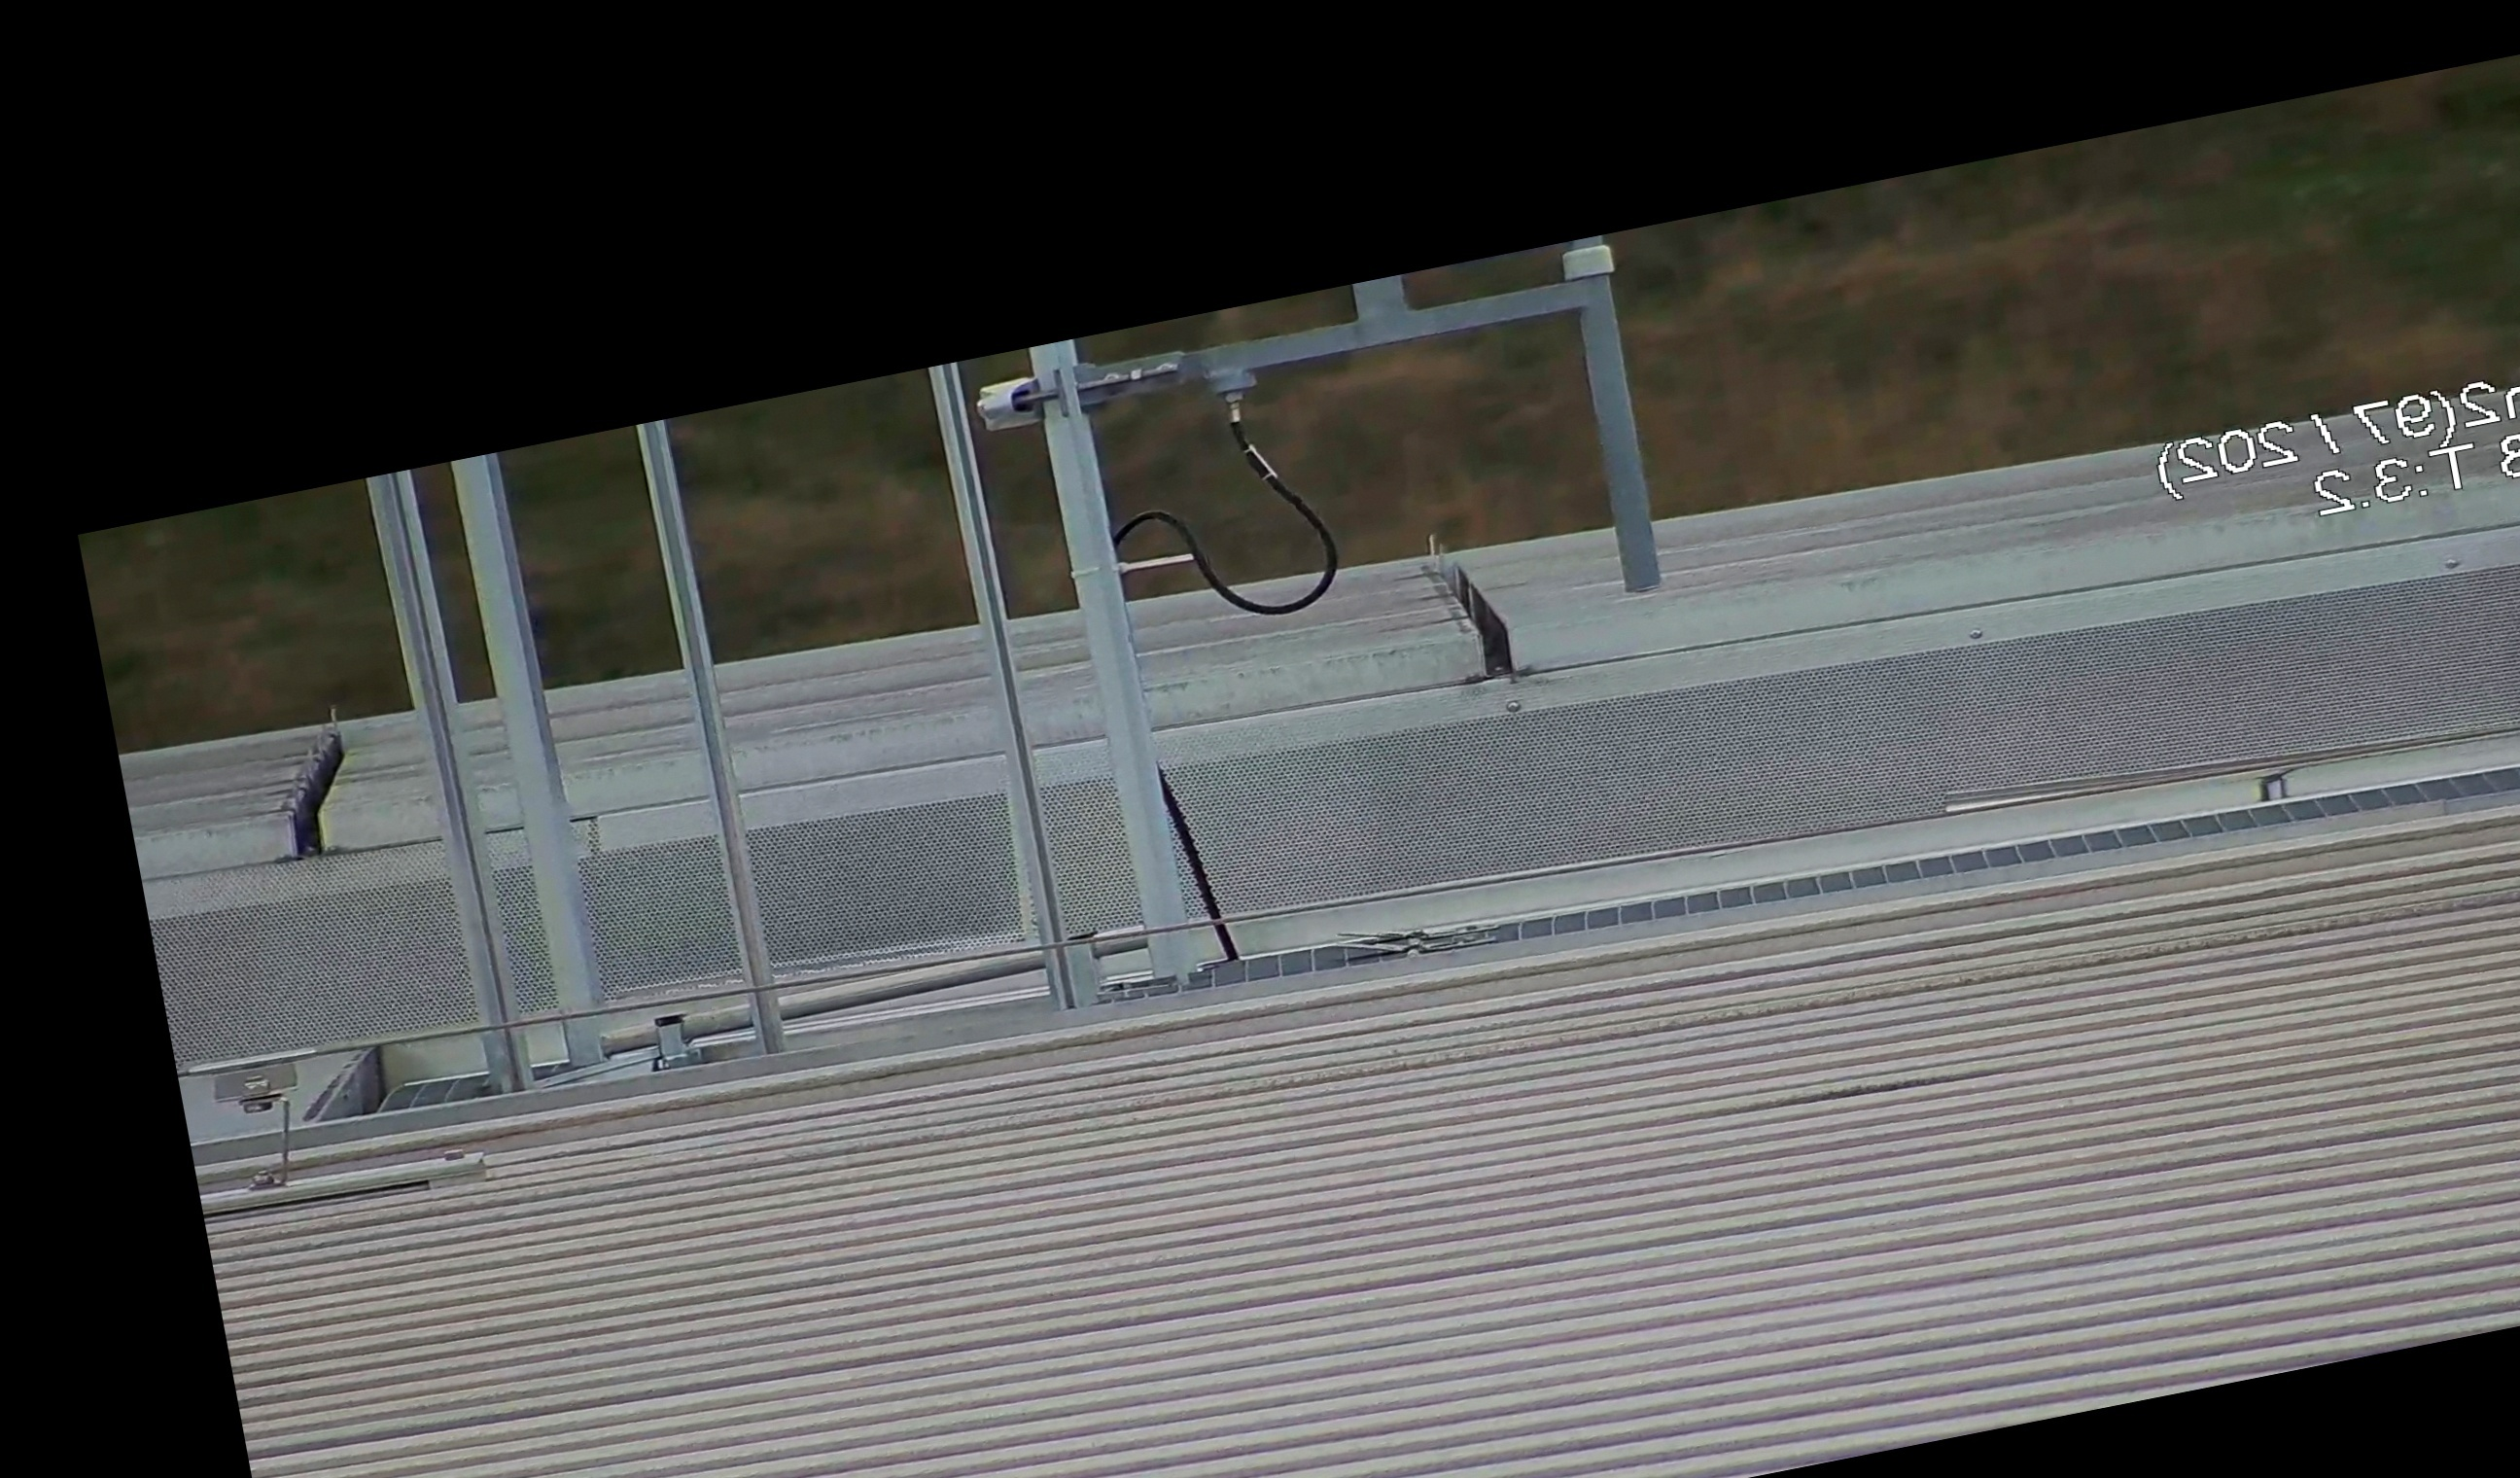Other: (239, 691, 369, 871)
